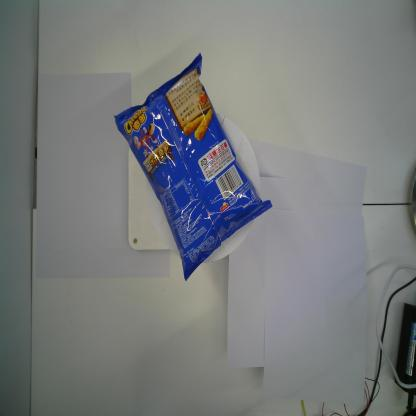Puffed Food: (112, 51, 273, 285)
